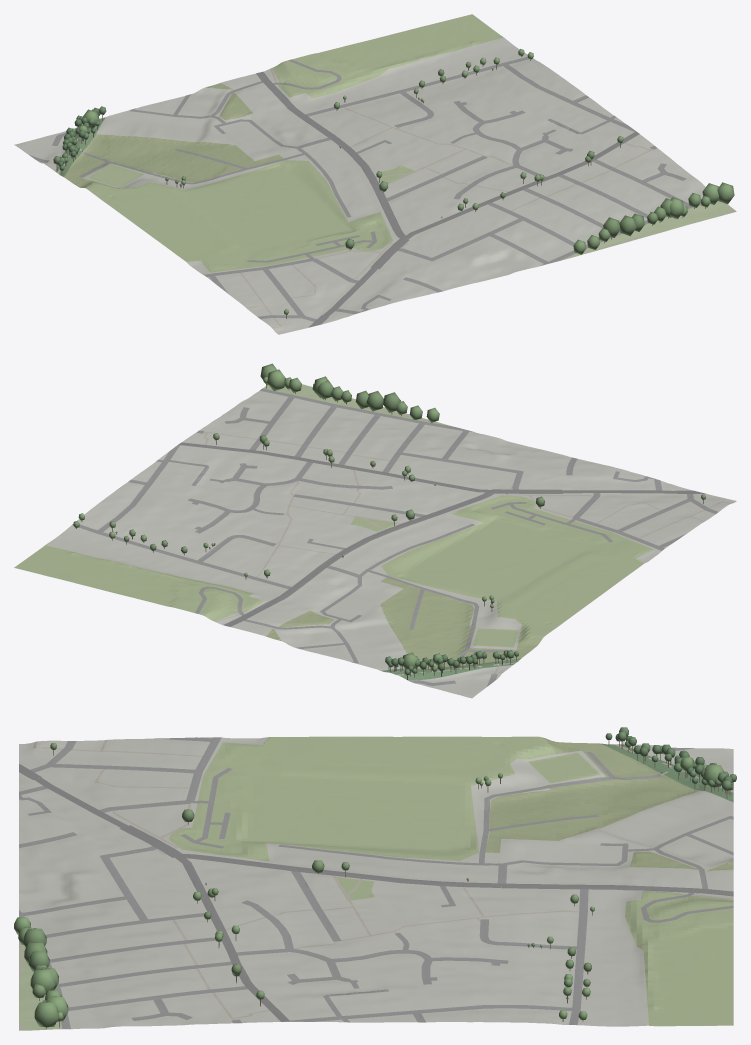
3 renders of one model, top to bottom at view 1: azimuth 30°, elevation 25°; view 2: azimuth 150°, elevation 25°; view 3: azimuth 270°, elevation 25°, orthographic. The views are drawn at different scales.
Parts seen in each view (by area): view 1: t14_10_terrain, way/160210083@t14_10, t14_10_roads_minor, way/15500128@t14_10, way/24697257@t14_10, t14_10_trees_mapped, t14_10_roads_major, t14_10_roads_path, way/93492016@t14_10, way/93510006@t14_10_canopy, way/160210093@t14_10, way/160210090@t14_10 (+1 smaller); view 2: t14_10_terrain, way/160210083@t14_10, t14_10_roads_minor, way/15500128@t14_10, way/24697257@t14_10, t14_10_trees_mapped, t14_10_roads_major, t14_10_roads_path, way/93510006@t14_10_canopy, way/93510006@t14_10, way/93492016@t14_10, way/160210093@t14_10; view 3: t14_10_terrain, way/160210083@t14_10, t14_10_roads_minor, way/15500128@t14_10, way/24697257@t14_10, t14_10_roads_major, t14_10_trees_mapped, t14_10_roads_path, way/93510006@t14_10_canopy, way/160210093@t14_10, way/93510006@t14_10, way/93492016@t14_10 (+5 smaller).
Boxes of the visible parts, x1,y1,x2,y2 form: t14_10_terrain: [14, 37, 705, 334]; way/160210083@t14_10: [85, 160, 392, 272]; t14_10_roads_minor: [29, 57, 701, 321]; way/15500128@t14_10: [272, 14, 503, 98]; way/24697257@t14_10: [64, 134, 283, 187]; t14_10_trees_mapped: [78, 49, 734, 318]; t14_10_roads_major: [256, 71, 639, 327]; t14_10_roads_path: [45, 68, 735, 328]; way/93492016@t14_10: [560, 201, 736, 260]; way/93510006@t14_10_canopy: [53, 106, 106, 174]; way/160210093@t14_10: [88, 164, 143, 187]; way/160210090@t14_10: [191, 173, 312, 214]; t14_10_terrain: [46, 388, 736, 698]; way/160210083@t14_10: [381, 495, 653, 639]; t14_10_roads_minor: [72, 388, 718, 686]; way/15500128@t14_10: [14, 545, 263, 621]; way/24697257@t14_10: [380, 577, 542, 669]; t14_10_trees_mapped: [73, 363, 705, 670]; t14_10_roads_major: [178, 442, 706, 626]; t14_10_roads_path: [203, 407, 730, 675]; way/93510006@t14_10_canopy: [385, 650, 518, 679]; way/93510006@t14_10: [381, 658, 521, 680]; way/93492016@t14_10: [263, 384, 452, 426]; way/160210093@t14_10: [473, 628, 518, 647]; t14_10_terrain: [19, 737, 733, 1030]; way/160210083@t14_10: [169, 736, 555, 861]; t14_10_roads_minor: [19, 737, 733, 1028]; way/15500128@t14_10: [625, 891, 733, 1026]; way/24697257@t14_10: [485, 737, 698, 852]; t14_10_roads_major: [19, 764, 733, 1021]; t14_10_trees_mapped: [14, 743, 725, 1028]; t14_10_roads_path: [19, 739, 733, 1030]; way/93510006@t14_10_canopy: [605, 727, 736, 798]; way/160210093@t14_10: [528, 753, 599, 783]; way/93510006@t14_10: [600, 743, 733, 802]; way/93492016@t14_10: [19, 942, 61, 1030].
Bounding box in the file's own units: 508 × 36.82 × 506.
